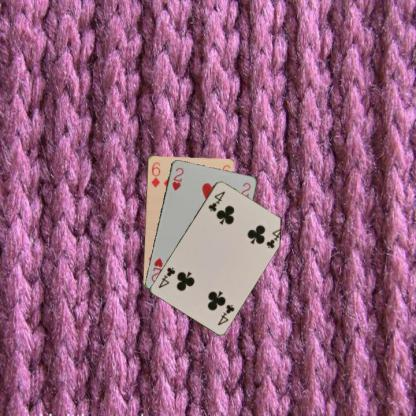2h: (169, 165, 185, 191)
4c: (214, 302, 236, 326), (206, 188, 226, 213)
6d: (149, 160, 161, 188)
